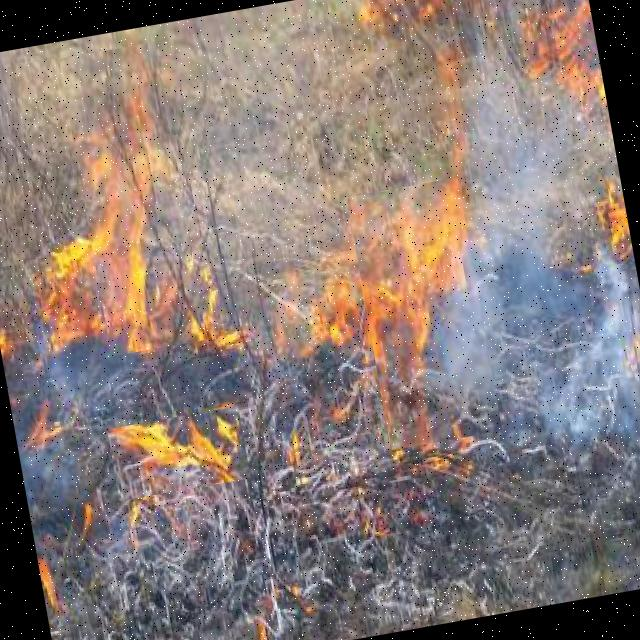fire: (58, 42, 206, 356), (346, 177, 502, 450), (107, 406, 250, 500)
